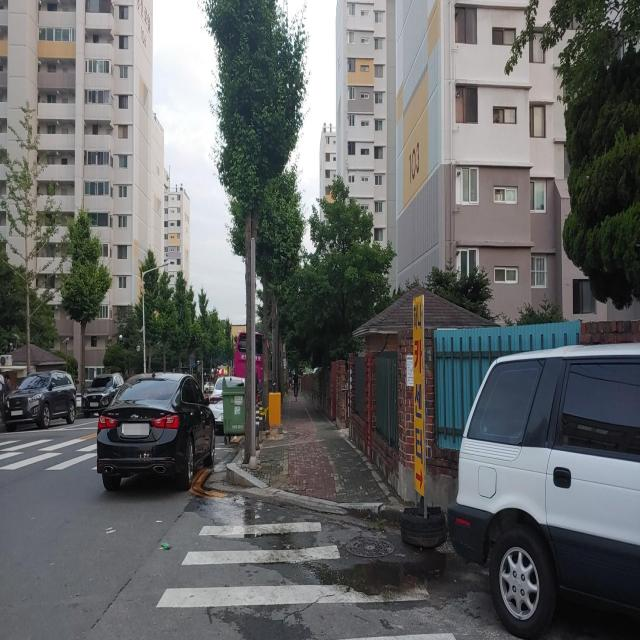횡단보도: (155, 520, 457, 639), (0, 436, 100, 474)
